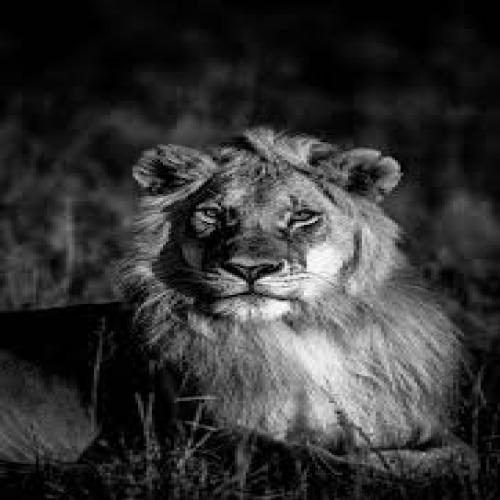lion-endangered: (0, 127, 479, 469)
